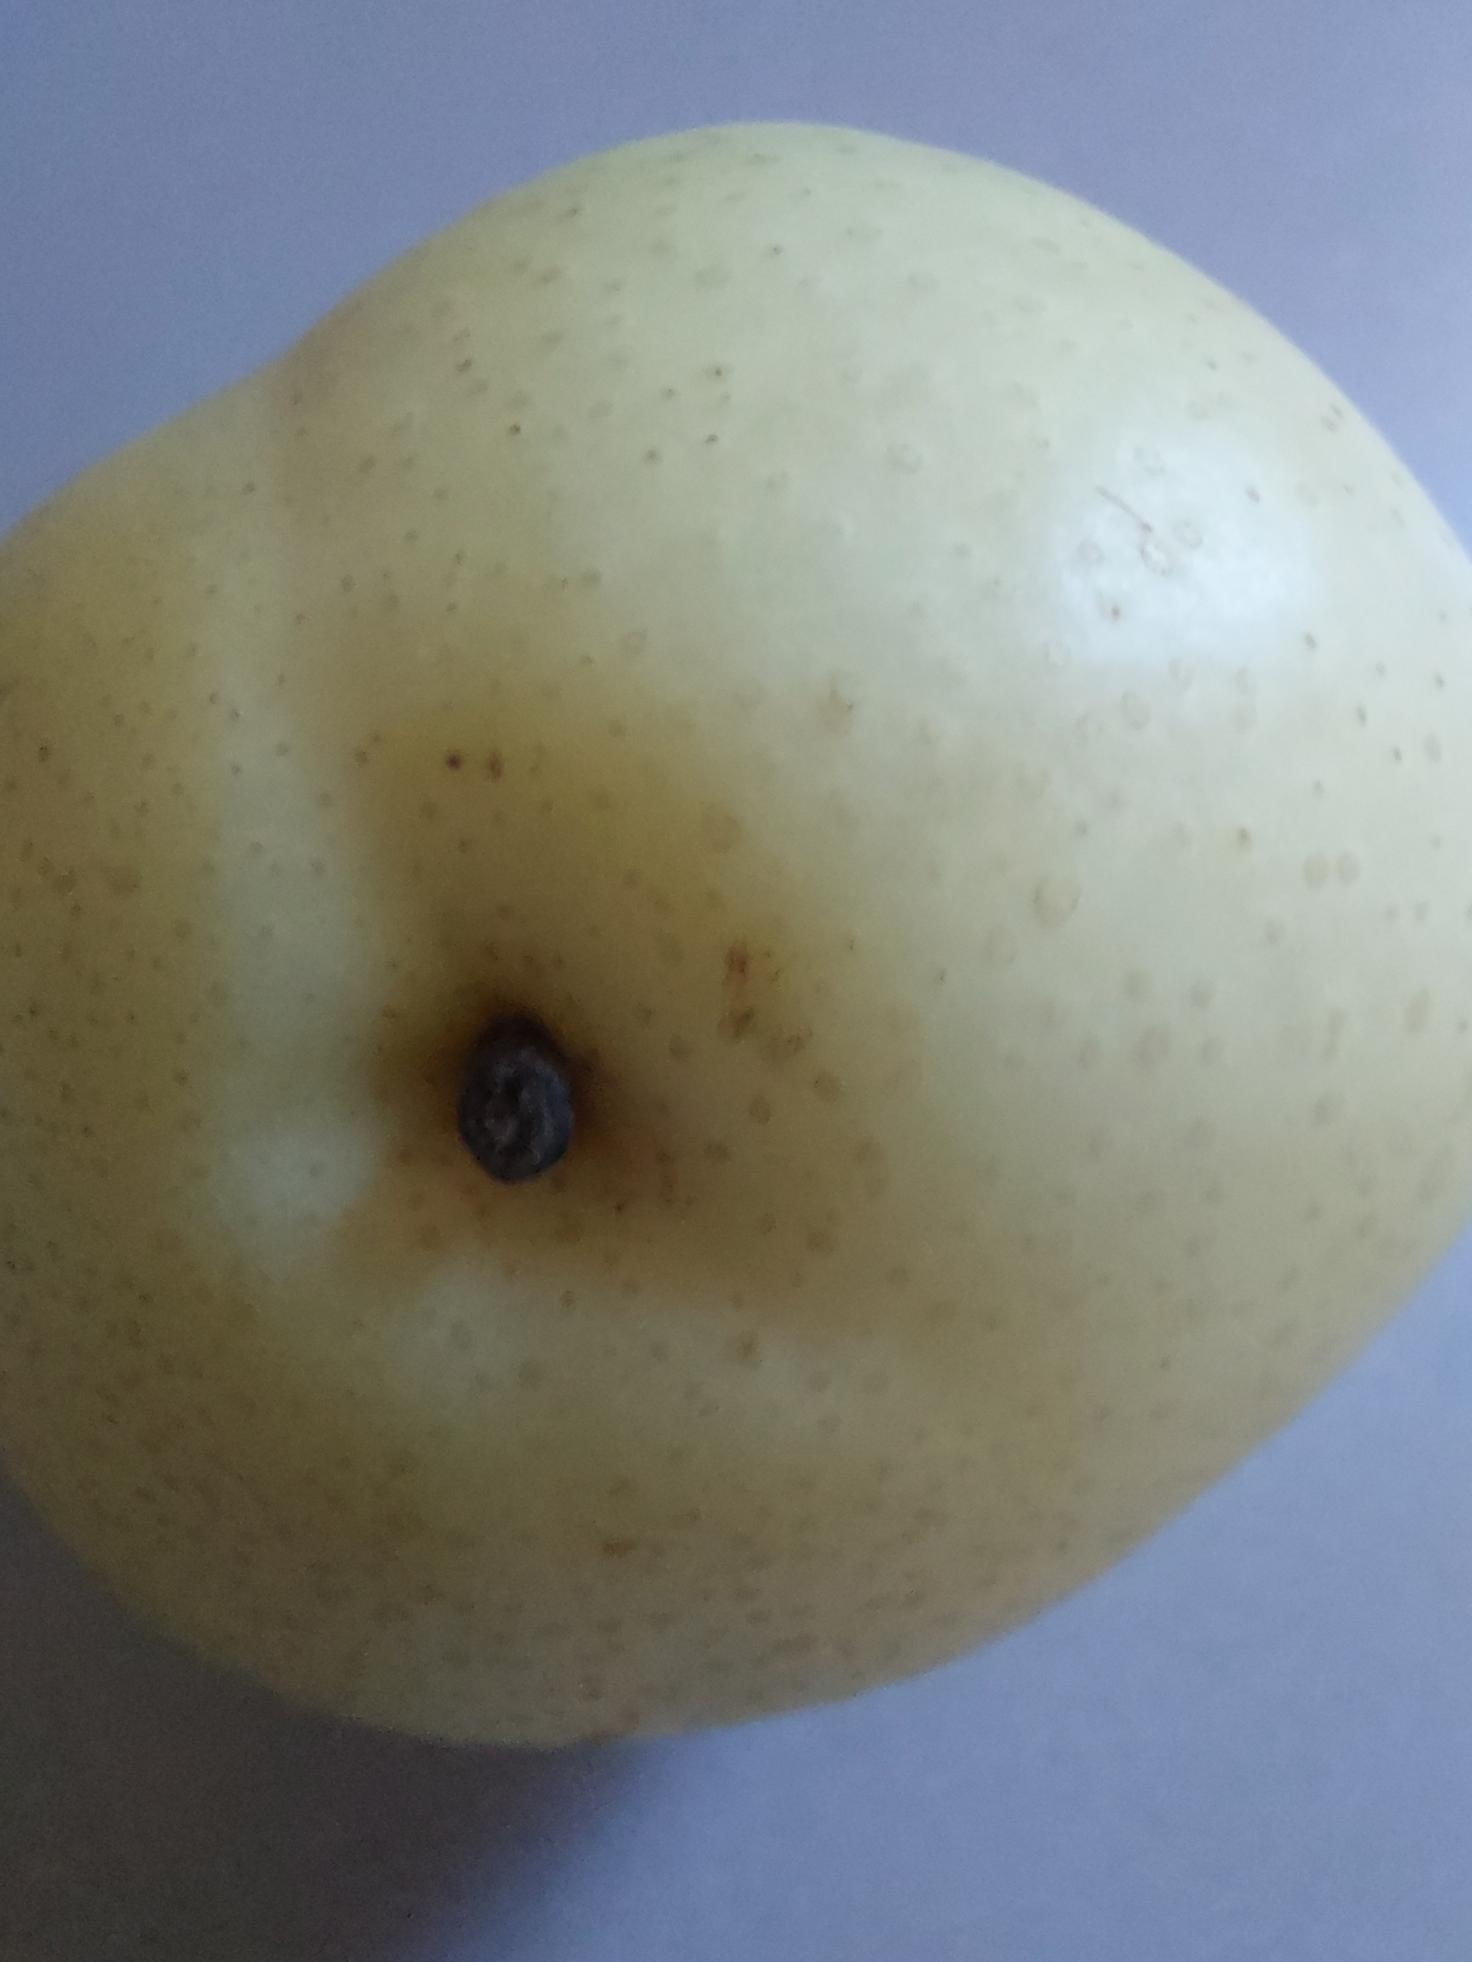Good Pear: (0, 110, 1472, 1769)
